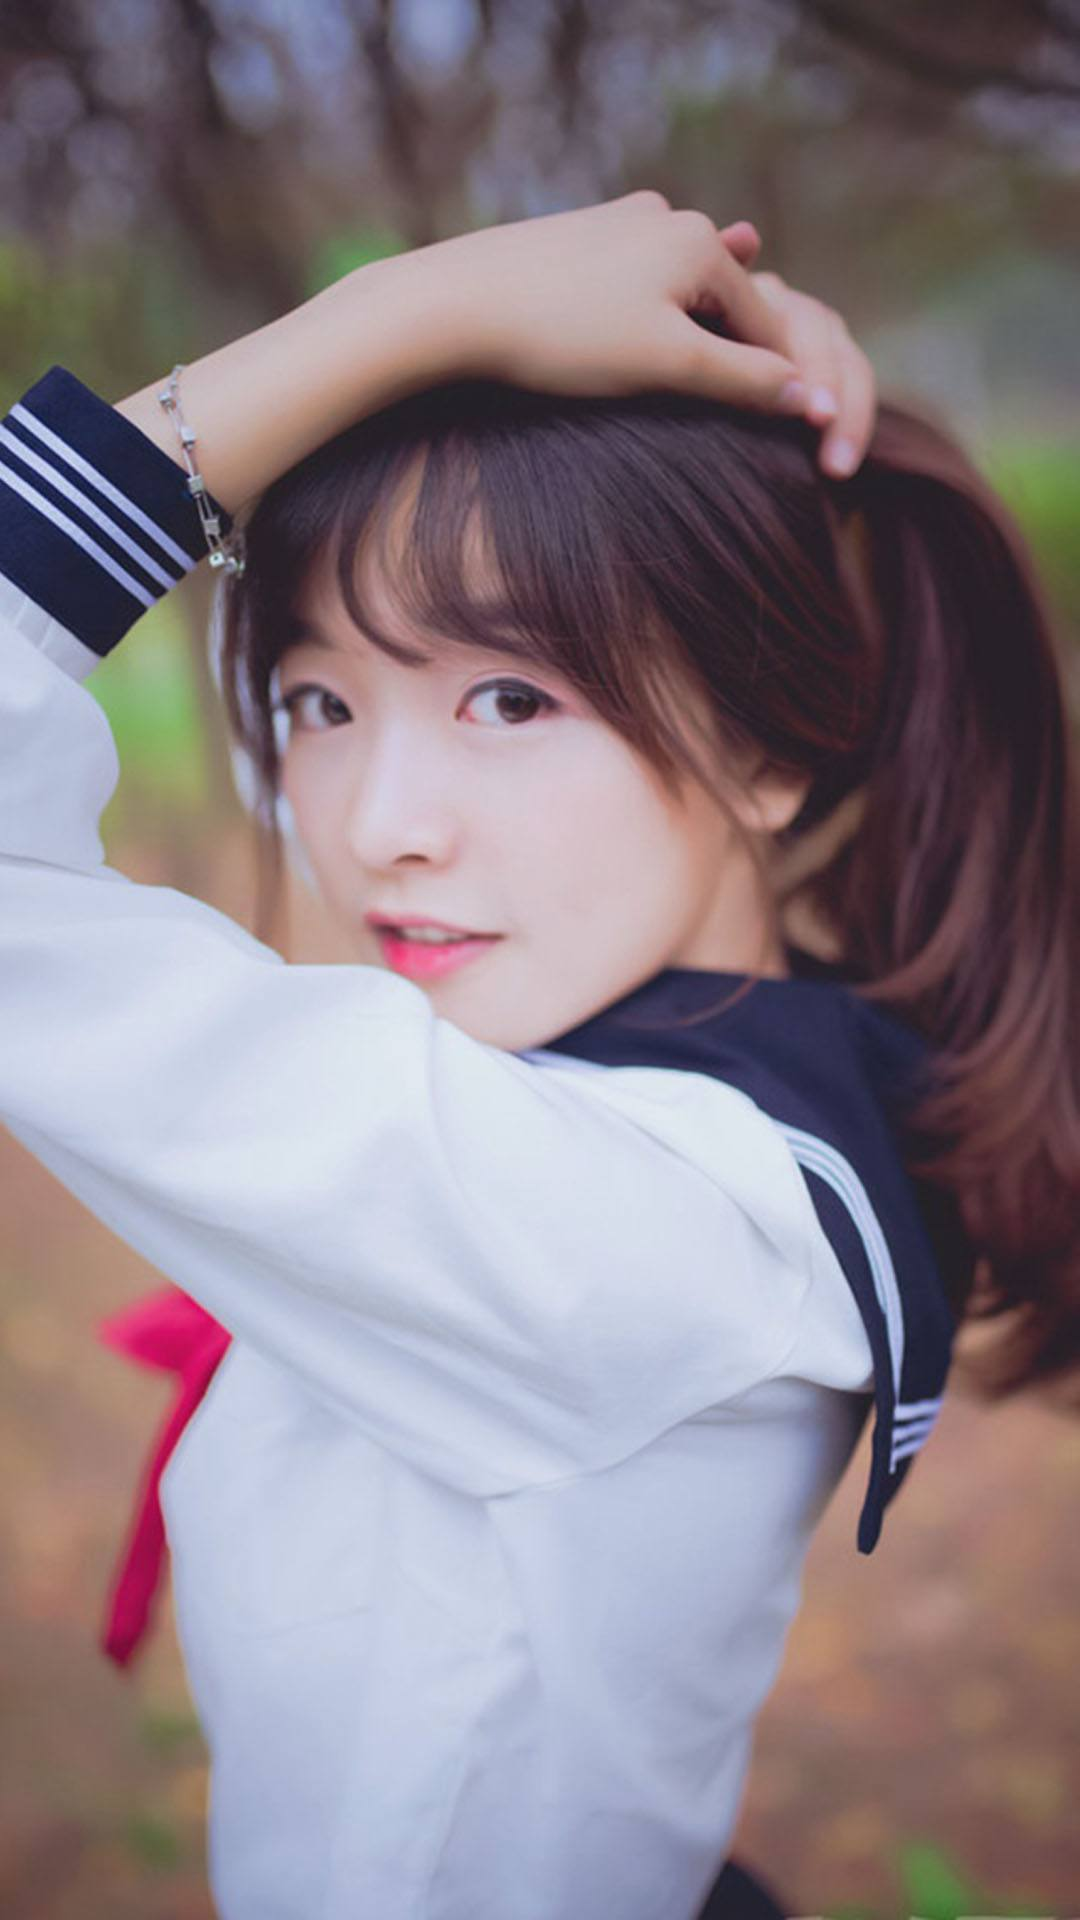person: (40, 290, 1059, 1629)
